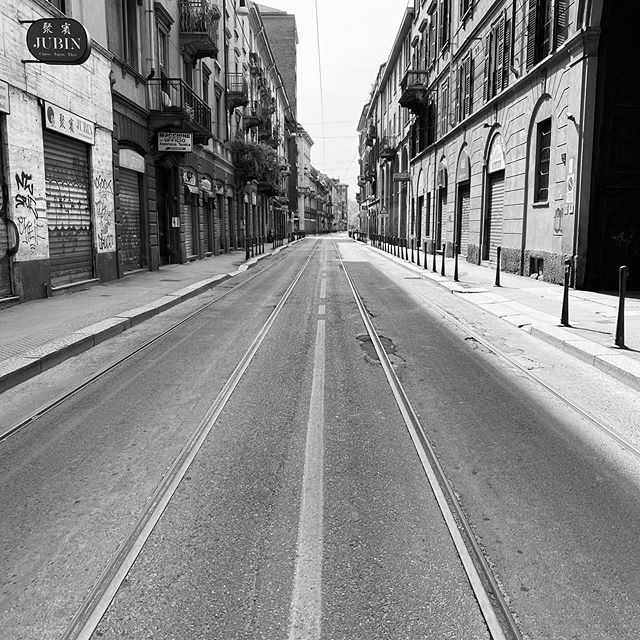building: (1, 1, 301, 290), (356, 1, 640, 263)
graffiti: (12, 170, 104, 243)
sign: (19, 13, 93, 73)
street: (1, 241, 640, 640)
